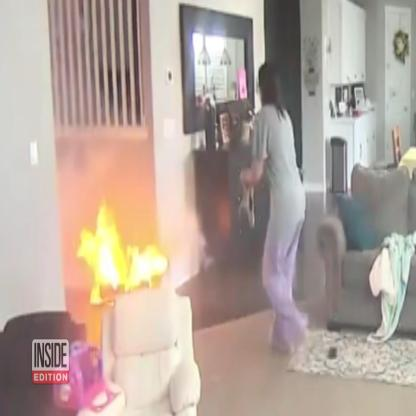fire: (76, 201, 168, 304)
